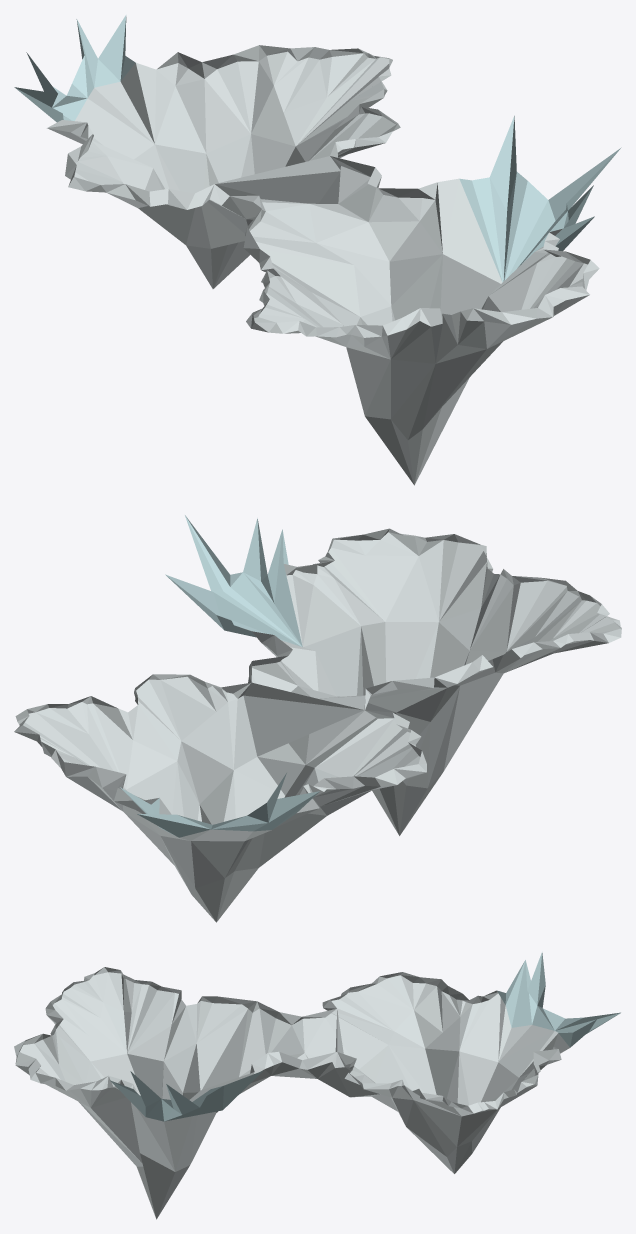
Rendered from island.fbx.
The picture shows the model from 3 angles, top to bottom: view 1: azimuth 30°, elevation 25°; view 2: azimuth 150°, elevation 25°; view 3: azimuth 270°, elevation 25°; orthographic projection. The views are drawn at different scales.
Parts seen in each view (by area): view 1: polySurface2; view 2: polySurface2; view 3: polySurface2.
Boxes of the visible parts, x1,y1,x2,y2 form: polySurface2: (14, 15, 621, 485); polySurface2: (14, 515, 621, 922); polySurface2: (14, 952, 620, 1219).
Bounding box in the file's own units: 1.23 × 0.8163 × 2.07.
